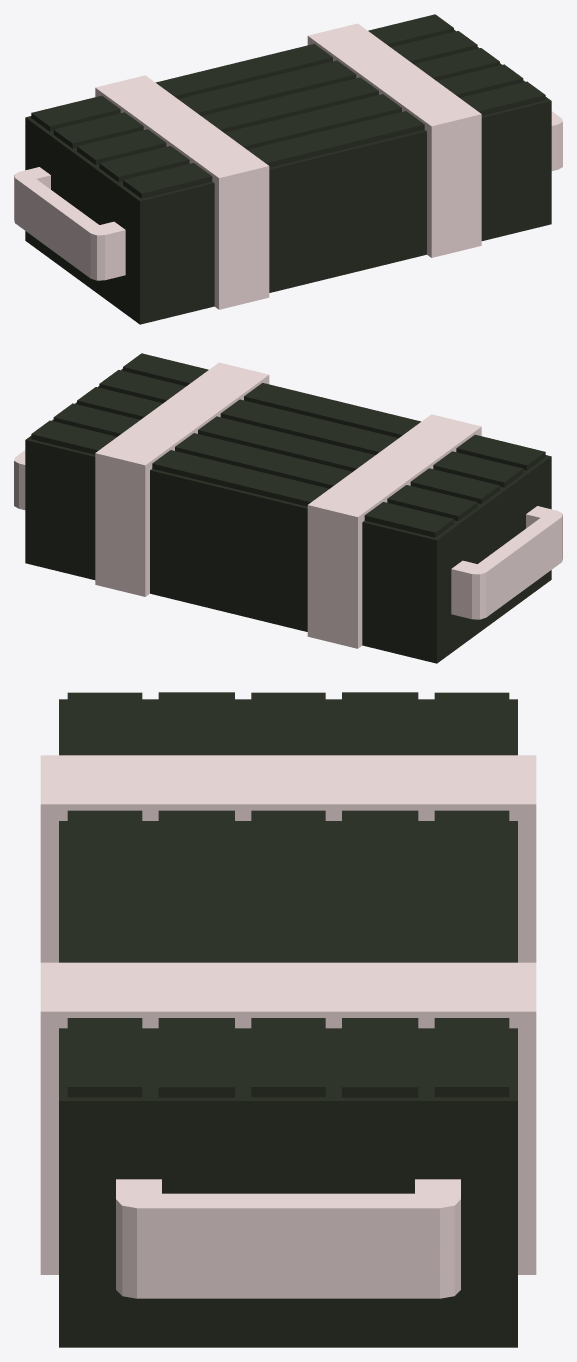
File: ammobox.fbx
3 views of the same model, one above another, from view 1: azimuth 30°, elevation 25°; view 2: azimuth 150°, elevation 25°; view 3: azimuth 270°, elevation 25° (orthographic). The views are drawn at different scales.
Parts seen in each view (by area): view 1: amobox_Cube.001; view 2: amobox_Cube.001; view 3: amobox_Cube.001.
Part boxes in pixels (x1,y1,x2,y2): amobox_Cube.001: [14, 14, 562, 324]; amobox_Cube.001: [14, 353, 562, 663]; amobox_Cube.001: [40, 692, 536, 1347].
Bounding box in the file's own units: 474 × 127 × 216.
